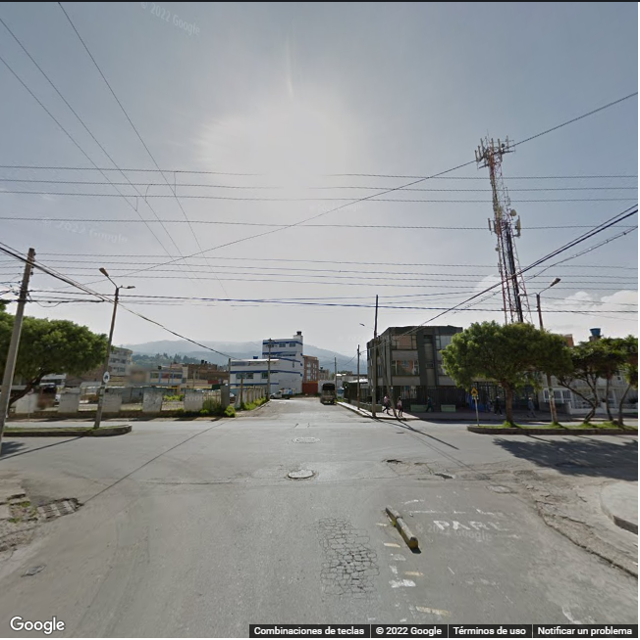D20: (318, 516, 389, 603)
